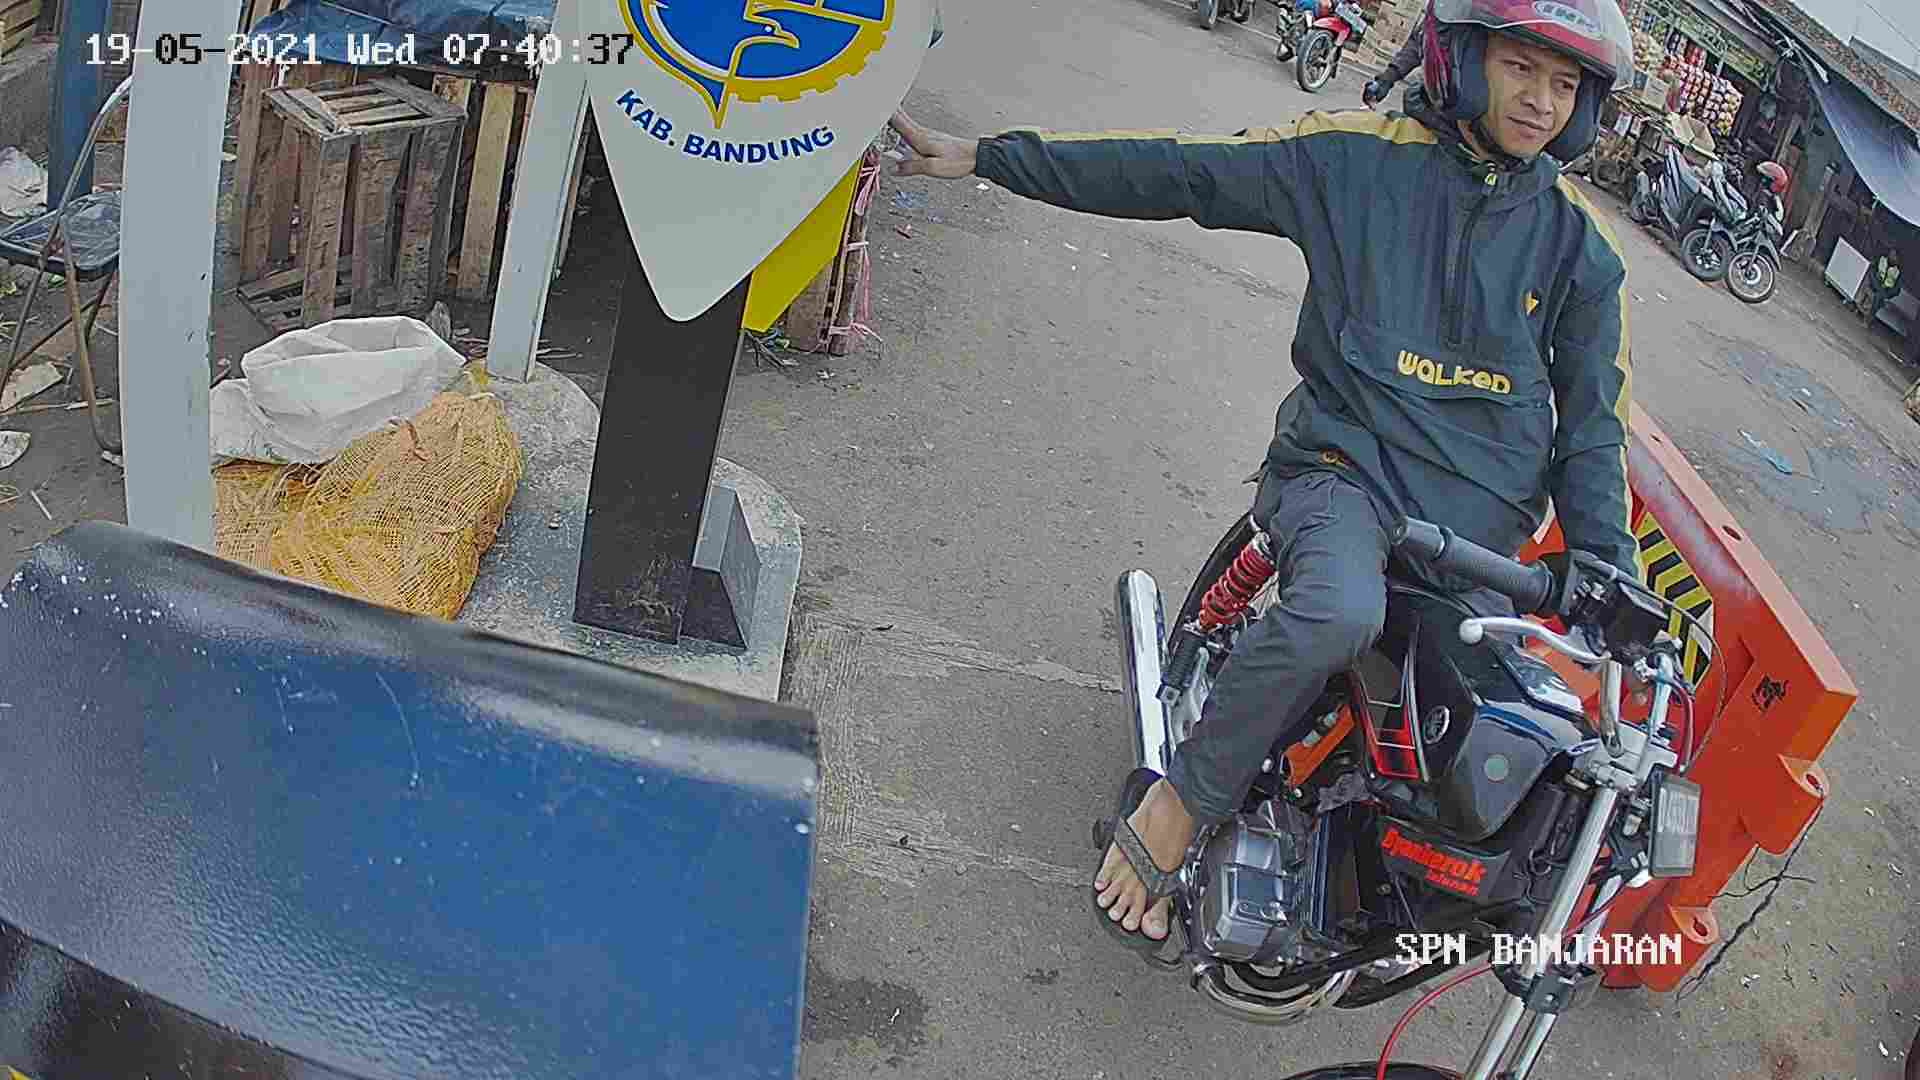motor: (1114, 512, 1712, 1080)
